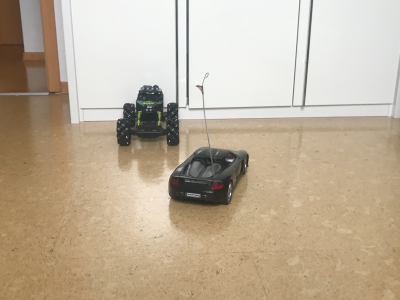remote control car: (115, 82, 181, 149)
